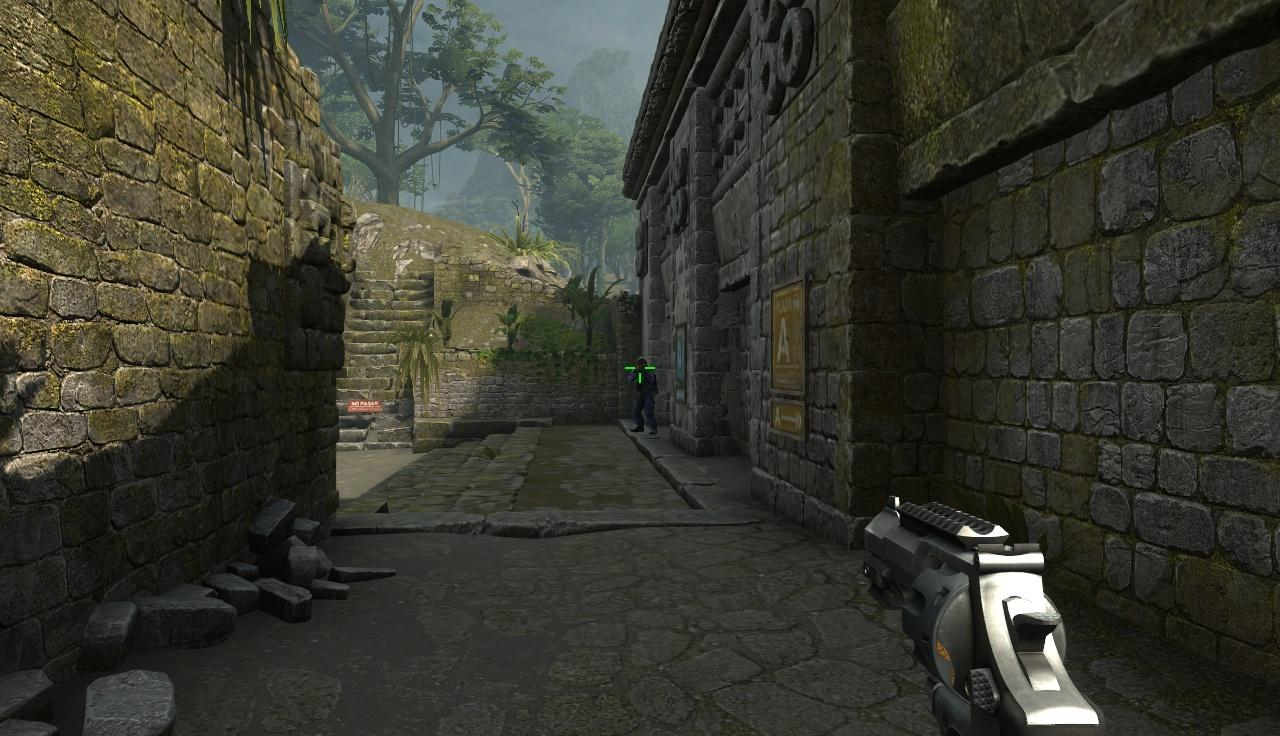ct: (631, 359, 658, 439)
cthead: (638, 358, 651, 373)
pistol: (854, 499, 1123, 736)
